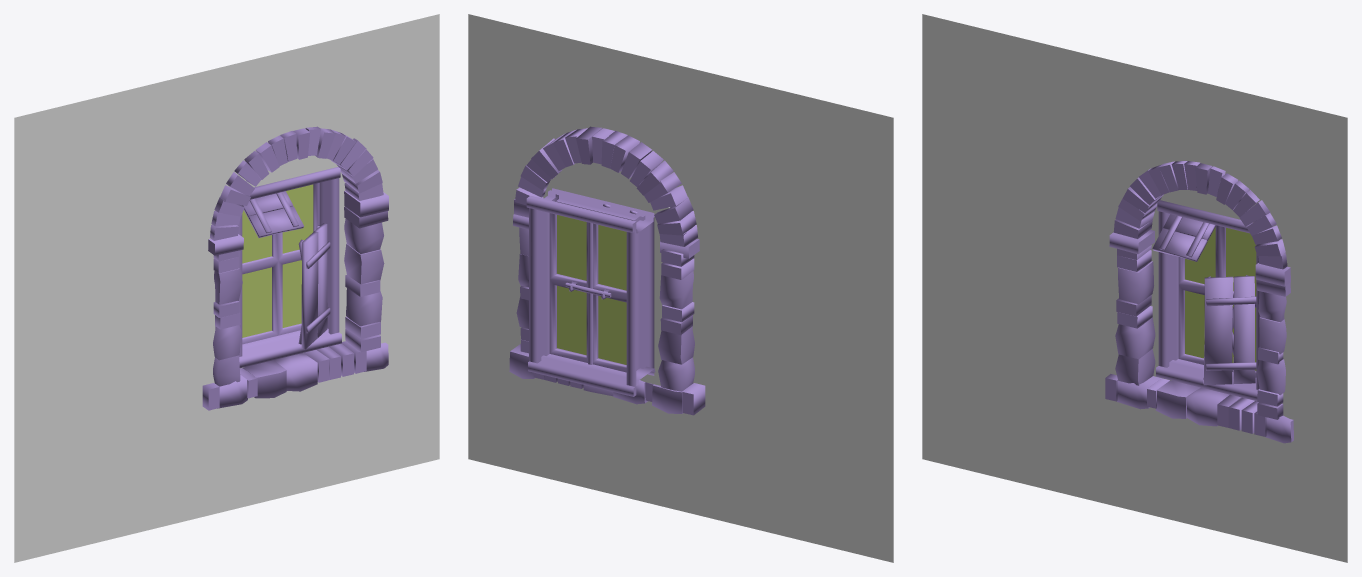
Rendered from window_d_outside_variant_b.fbx.
The picture shows the model from 3 angles, left to right: view 1: azimuth 30°, elevation 25°; view 2: azimuth 150°, elevation 25°; view 3: azimuth 330°, elevation 25°; orthographic projection.
Visible parts, largest first — view 1: Plane.058, Plane.060, Plane.054, Plane.055, Plane.056; view 2: Plane.058, Plane.060, Plane.054; view 3: Plane.058, Plane.060, Plane.055, Plane.054, Plane.056.
Boxes of the visible parts, x1=… form: Plane.058: x1=14, y1=14, x2=439, y2=562; Plane.060: x1=202, y1=126, x2=388, y2=410; Plane.054: x1=242, y1=184, x2=313, y2=337; Plane.055: x1=298, y1=223, x2=330, y2=349; Plane.056: x1=242, y1=191, x2=303, y2=237; Plane.058: x1=468, y1=14, x2=893, y2=562; Plane.060: x1=509, y1=126, x2=705, y2=415; Plane.054: x1=557, y1=215, x2=626, y2=364; Plane.058: x1=922, y1=14, x2=1347, y2=562; Plane.060: x1=1105, y1=161, x2=1293, y2=443; Plane.055: x1=1203, y1=275, x2=1256, y2=385; Plane.054: x1=1185, y1=227, x2=1256, y2=370; Plane.056: x1=1152, y1=214, x2=1215, y2=261.
Size of the model in its own units: 5 by 5 by 0.844.
